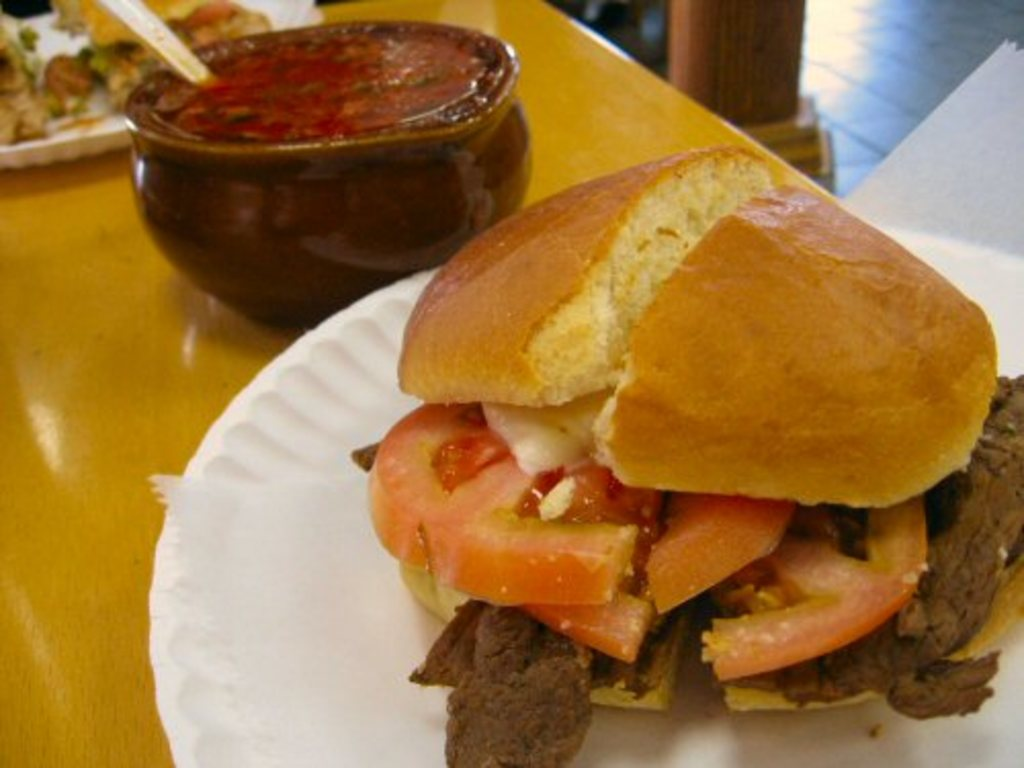Hamburger: (346, 149, 1021, 765)
